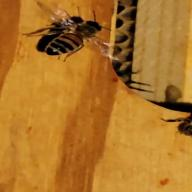Bee: (24, 11, 120, 61)
